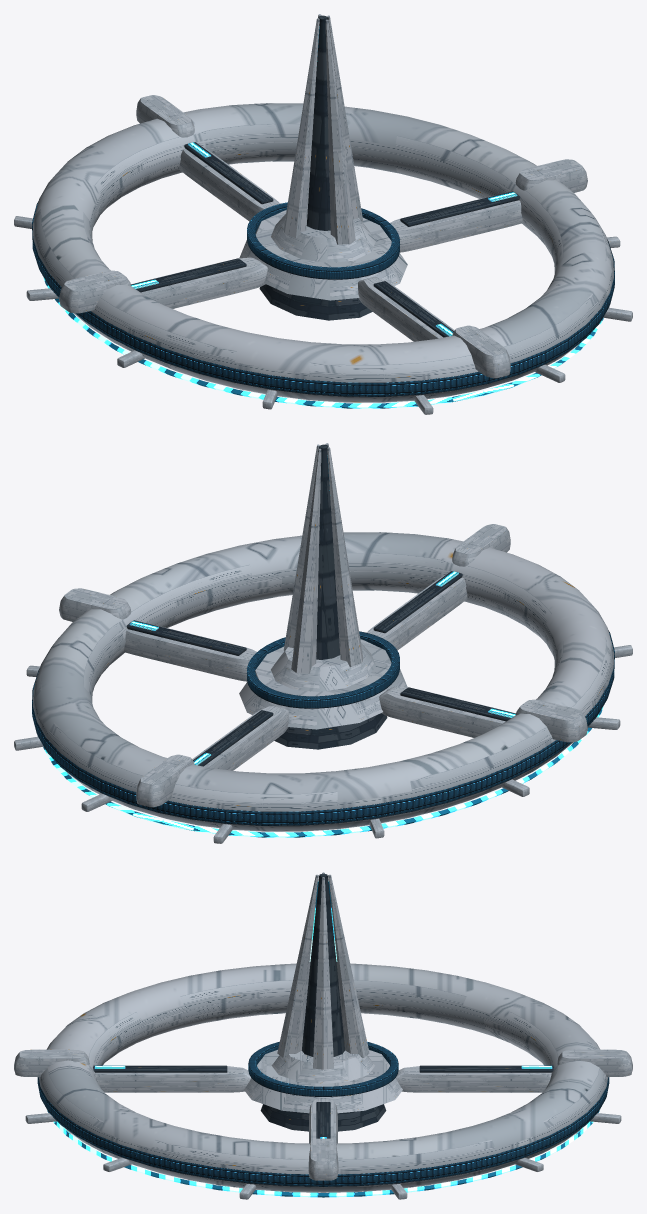
File: alliance_starbase_far.glb
3 views of the same model, one above another, from view 1: azimuth 30°, elevation 25°; view 2: azimuth 150°, elevation 25°; view 3: azimuth 270°, elevation 25° (orthographic). The views are drawn at different scales.
Parts seen in each view (by area): view 1: alliance_starbase_far_source; view 2: alliance_starbase_far_source; view 3: alliance_starbase_far_source.
Boxes of the visible parts, x1=… form: alliance_starbase_far_source: x1=14, y1=14, x2=632, y2=414; alliance_starbase_far_source: x1=14, y1=443, x2=632, y2=843; alliance_starbase_far_source: x1=14, y1=872, x2=632, y2=1199.
Bounding box in the file's own units: 28.46 × 14.33 × 34.08.
1 material, 1 textured.
